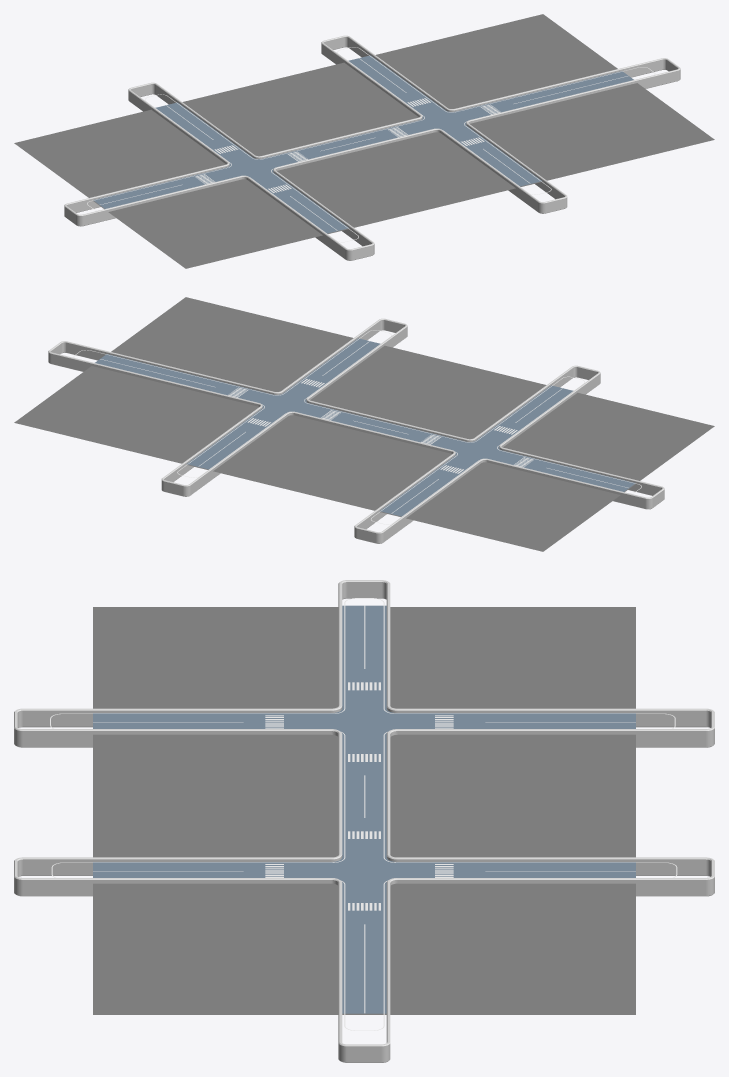
File: Mapa1.fbx
3 views of the same model, one above another, from view 1: azimuth 30°, elevation 25°; view 2: azimuth 150°, elevation 25°; view 3: azimuth 270°, elevation 25° (orthographic). The views are drawn at different scales.
Visible parts, largest first — view 1: fundo, pista, meio_fio, Detalhes; view 2: fundo, pista, meio_fio, Detalhes; view 3: fundo, pista, meio_fio, Detalhes.
Boxes of the visible parts, x1,y1,x2,y2 form: fundo: [14, 14, 714, 268]; pista: [93, 55, 633, 233]; meio_fio: [64, 35, 680, 260]; Detalhes: [87, 47, 655, 242]; fundo: [14, 297, 714, 551]; pista: [95, 338, 635, 516]; meio_fio: [48, 318, 664, 543]; Detalhes: [73, 330, 641, 524]; fundo: [93, 607, 635, 1014]; pista: [93, 605, 635, 1013]; meio_fio: [14, 580, 714, 1062]; Detalhes: [50, 598, 677, 1030].
Size of the model in its own units: 61.85 by 1.1 by 39.33.
